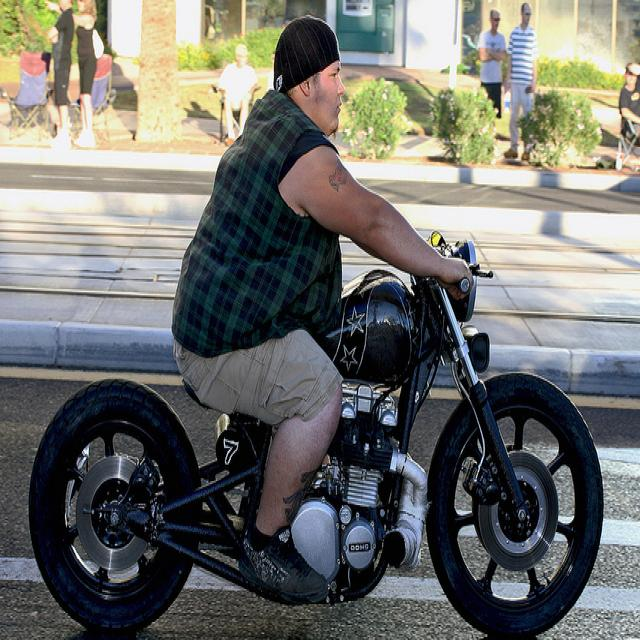motor: (27, 233, 607, 639)
